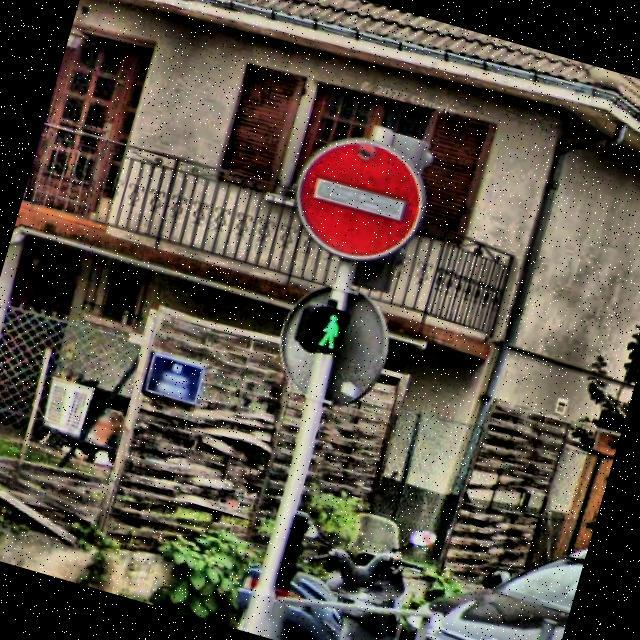green_light: (310, 304, 344, 352)
